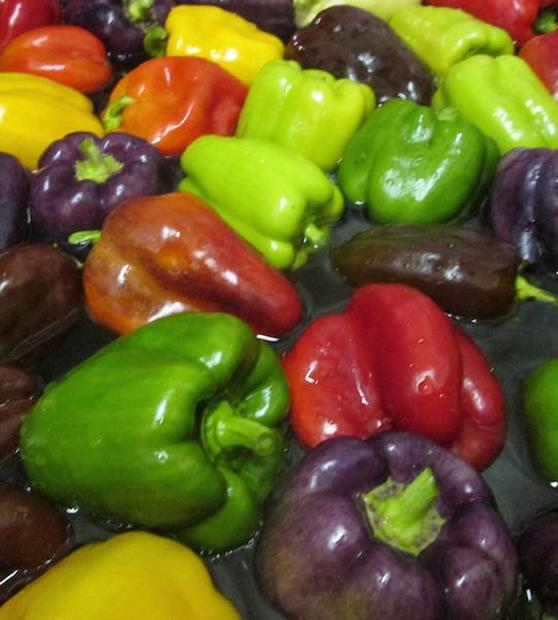pepper: (290, 287, 514, 472)
